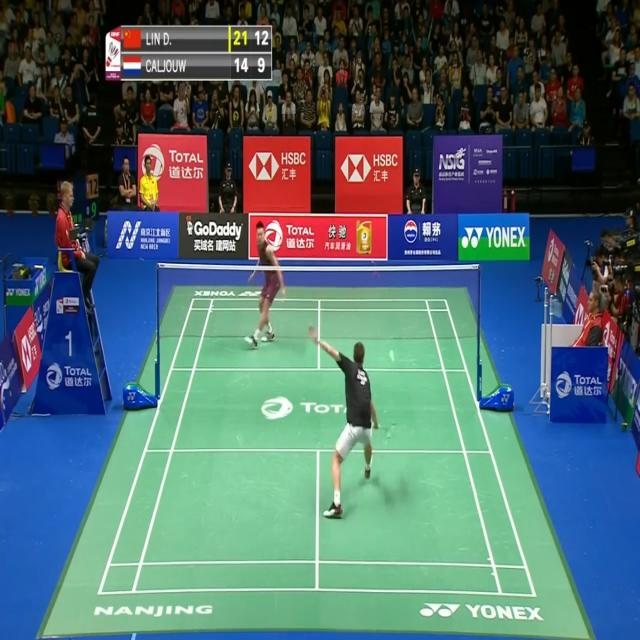Player1: (305, 322, 397, 524)
Player2: (242, 215, 291, 350)
